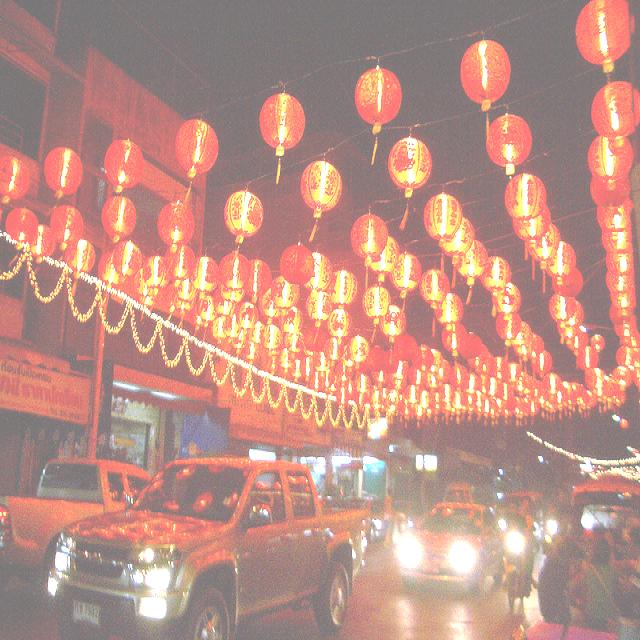Motorbike: (497, 494, 538, 609)
